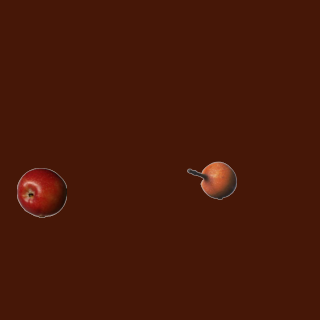Apple Braeburn: (16, 167, 66, 217)
Granadilla: (186, 155, 236, 205)
